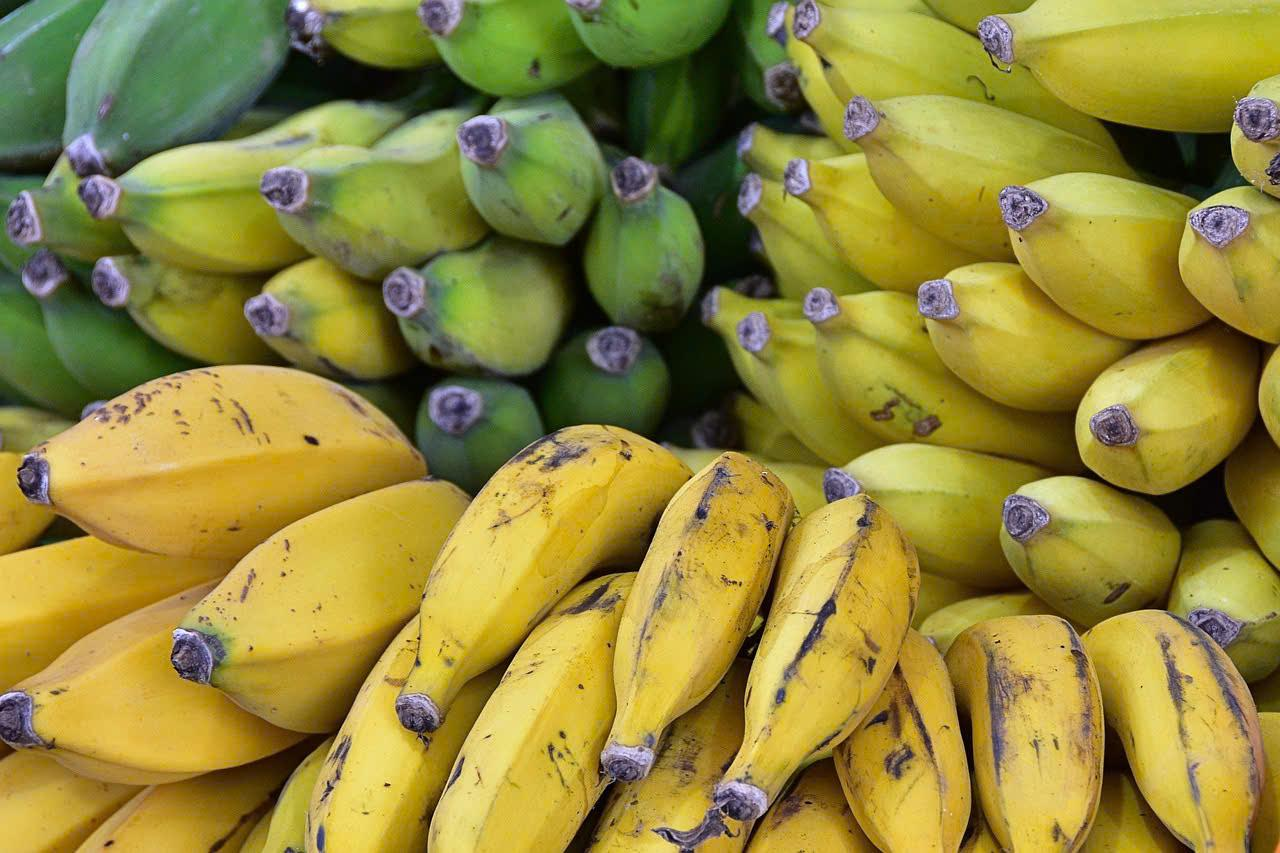banana: (410, 374, 940, 821), (0, 340, 404, 850), (82, 60, 706, 379), (948, 346, 1280, 853), (768, 10, 1280, 325)
